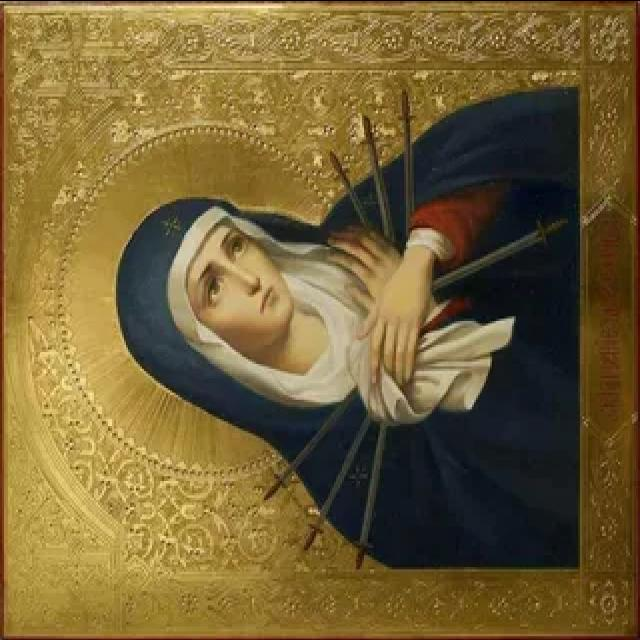mother of god: (104, 72, 586, 573)
